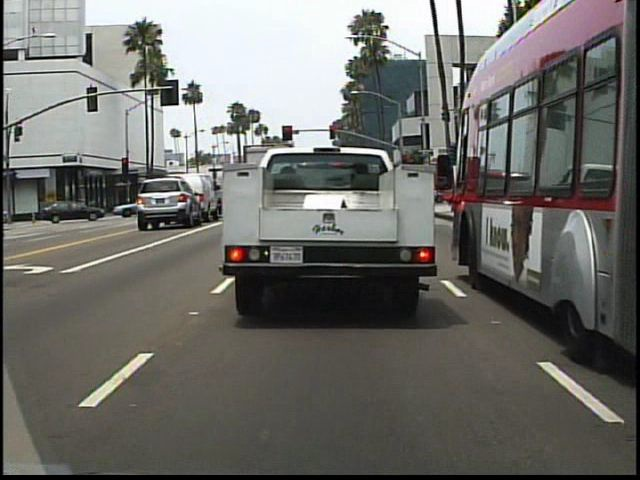person: (47, 193, 66, 224)
